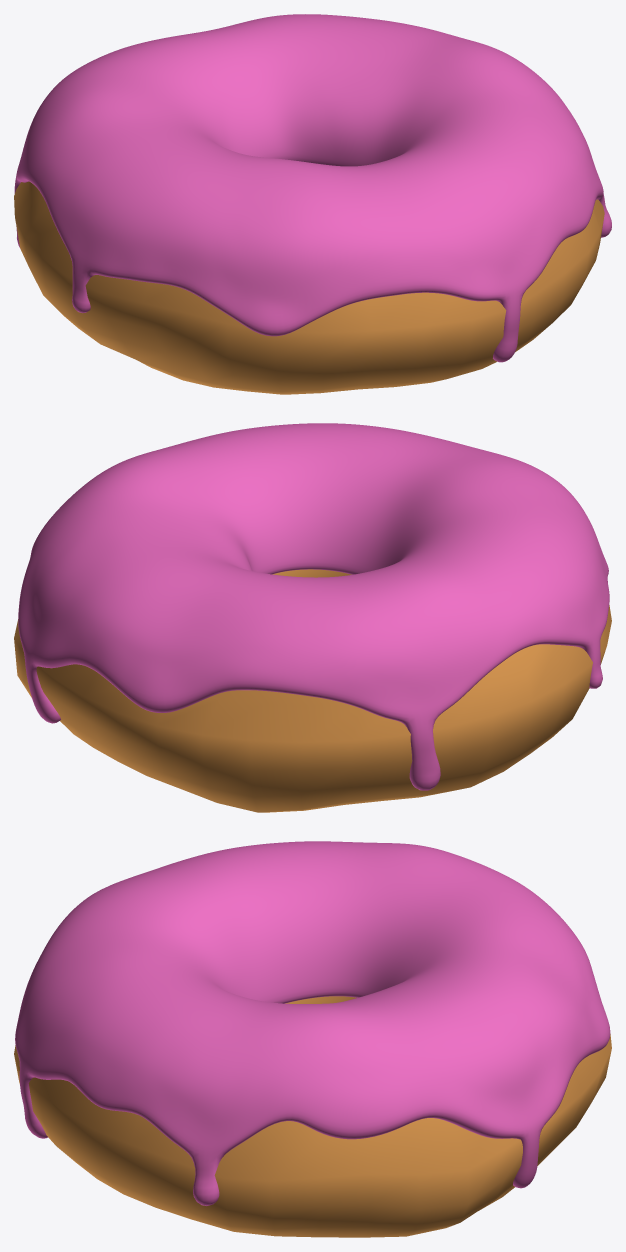
Rendered from donut.glb.
3 views of the same model, one above another, from view 1: azimuth 30°, elevation 25°; view 2: azimuth 150°, elevation 25°; view 3: azimuth 270°, elevation 25° (orthographic).
Parts seen in each view (by area): view 1: Icing, Donut; view 2: Icing, Donut; view 3: Icing, Donut.
Boxes of the visible parts, bbox=[...] form: Icing: bbox=[14, 14, 611, 362]; Donut: bbox=[14, 181, 604, 394]; Icing: bbox=[18, 423, 609, 790]; Donut: bbox=[14, 569, 611, 812]; Icing: bbox=[15, 841, 610, 1205]; Donut: bbox=[14, 996, 611, 1237].
Bounding box in the file's own units: 6.57 × 2.65 × 6.57.
